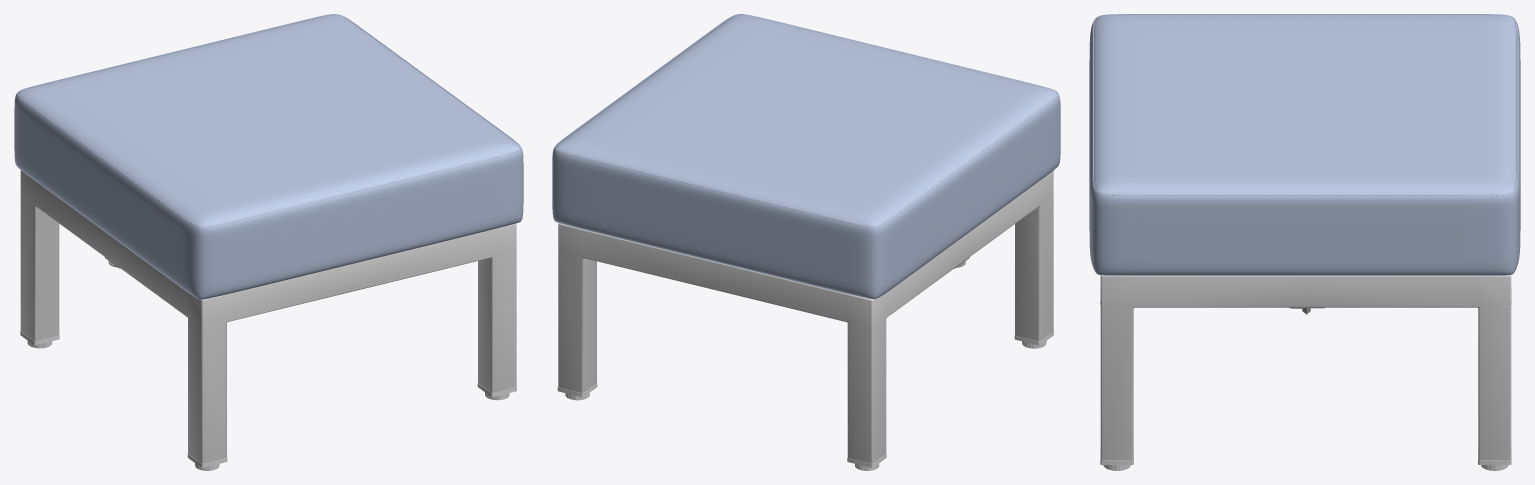
The model's file is simple_section.glb.
3 renders of one model, left to right at view 1: azimuth 30°, elevation 25°; view 2: azimuth 150°, elevation 25°; view 3: azimuth 270°, elevation 25°, orthographic. The views are drawn at different scales.
Parts seen in each view (by area): view 1: Cube.052, Cube.051, Cube.073, Cube.075; view 2: Cube.052, Cube.051, Cube.073, Cube.075; view 3: Cube.052, Cube.051, Cube.073.
Boxes of the visible parts, bbox=[...] form: Cube.052: bbox=[18, 14, 519, 225]; Cube.051: bbox=[14, 15, 523, 299]; Cube.073: bbox=[20, 170, 516, 463]; Cube.075: bbox=[20, 331, 516, 467]; Cube.052: bbox=[556, 14, 1056, 225]; Cube.051: bbox=[552, 14, 1060, 299]; Cube.073: bbox=[558, 170, 1053, 463]; Cube.075: bbox=[557, 331, 1053, 467]; Cube.052: bbox=[1094, 14, 1515, 193]; Cube.051: bbox=[1089, 14, 1520, 275]; Cube.073: bbox=[1100, 275, 1511, 460].
Bounding box in the file's own units: 0.655 × 0.4781 × 0.6508.
